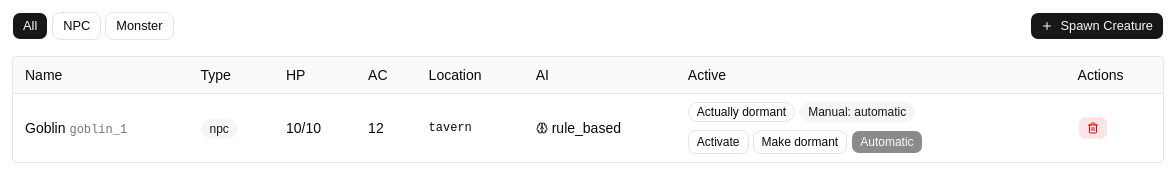
Test case: CreatureList — activation controls › changes a dormant creature override and refreshes the factual state
Click the button "Activate" at {"x": 718, "y": 142}, box [688,130,748,154]
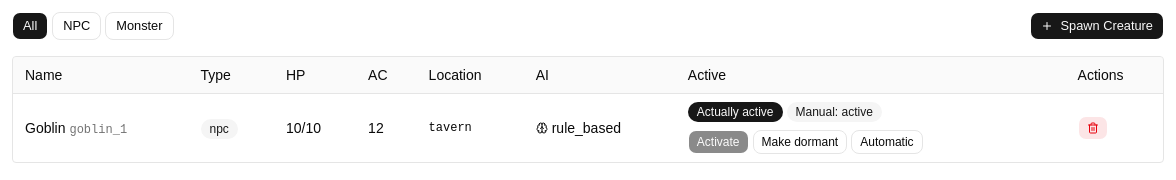
expect the text "Actually active" is shown: met, box [688,102,782,122]
expect the text "Manual: active" is shown: met, box [786,102,882,122]
expect the button "Automatic" is enabled: met, box [851,130,923,154]
